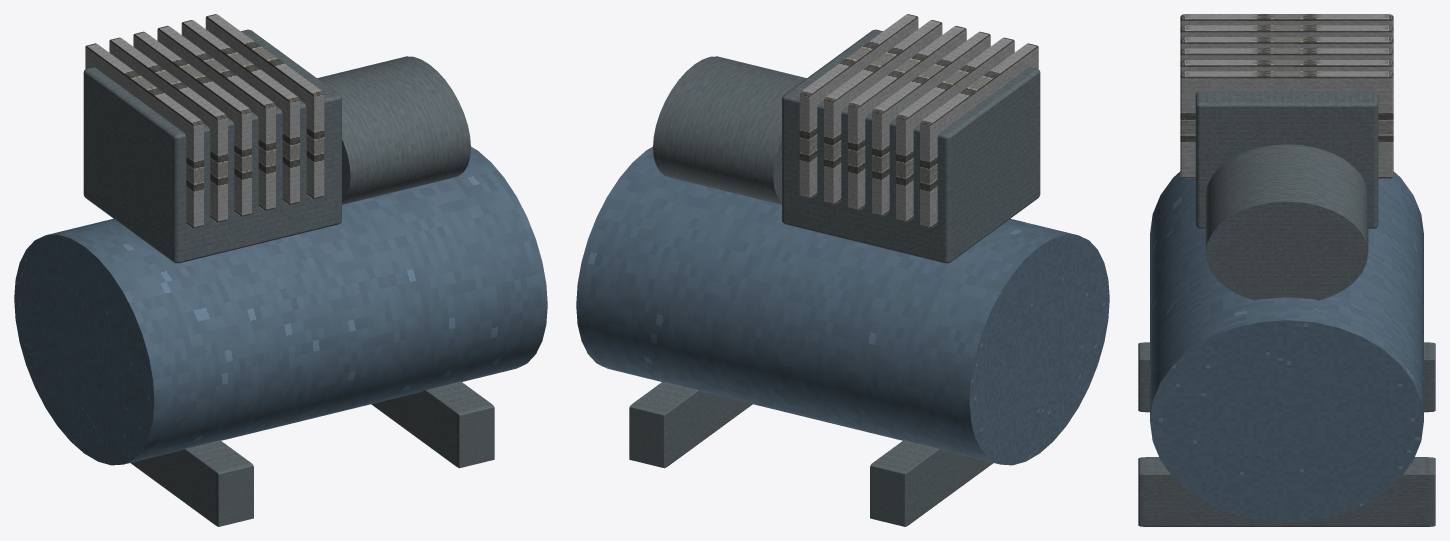
Rendered from compressor.glb.
3 renders of one model, left to right at view 1: azimuth 30°, elevation 25°; view 2: azimuth 150°, elevation 25°; view 3: azimuth 270°, elevation 25°, orthographic. The views are drawn at different scales.
Visible parts, largest first — view 1: tank, fin (×6), pump, motor, foot (×2); view 2: tank, fin (×6), pump, motor, foot (×2); view 3: tank, motor, fin (×6), pump, foot (×2).
Part boxes in pixels (x1=…): tank: x1=14, y1=146, x2=547, y2=465; fin (×6): x1=85, y1=14, x2=324, y2=228; pump: x1=83, y1=29, x2=341, y2=263; motor: x1=317, y1=56, x2=470, y2=204; foot (×2): x1=130, y1=381, x2=494, y2=526; tank: x1=576, y1=146, x2=1109, y2=465; fin (×6): x1=799, y1=14, x2=1038, y2=228; pump: x1=782, y1=29, x2=1040, y2=263; motor: x1=653, y1=56, x2=806, y2=204; foot (×2): x1=629, y1=381, x2=993, y2=526; tank: x1=1150, y1=171, x2=1423, y2=522; motor: x1=1205, y1=144, x2=1368, y2=300; fin (×6): x1=1180, y1=14, x2=1393, y2=178; pump: x1=1195, y1=91, x2=1378, y2=228; foot (×2): x1=1138, y1=342, x2=1435, y2=526.
Bounding box in the file's own units: 0.8526 × 0.8059 × 0.572.
3 materials, 3 textured.
